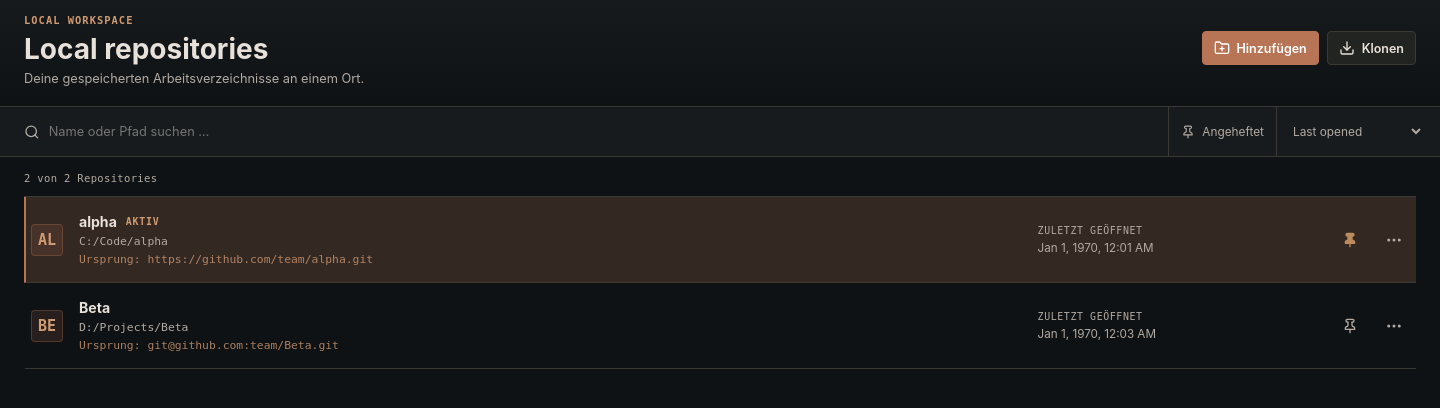
LocalRepositoriesView › opens analytics from the context menu after activation succeeds for D:/Projects/Beta
The width and height of the screenshot is (1440, 408).
Right-click the element with class "local-repositories-view__row" that starts with "Beta".
right_click(720, 326)  # box x1=24 y1=283 x2=1416 y2=369
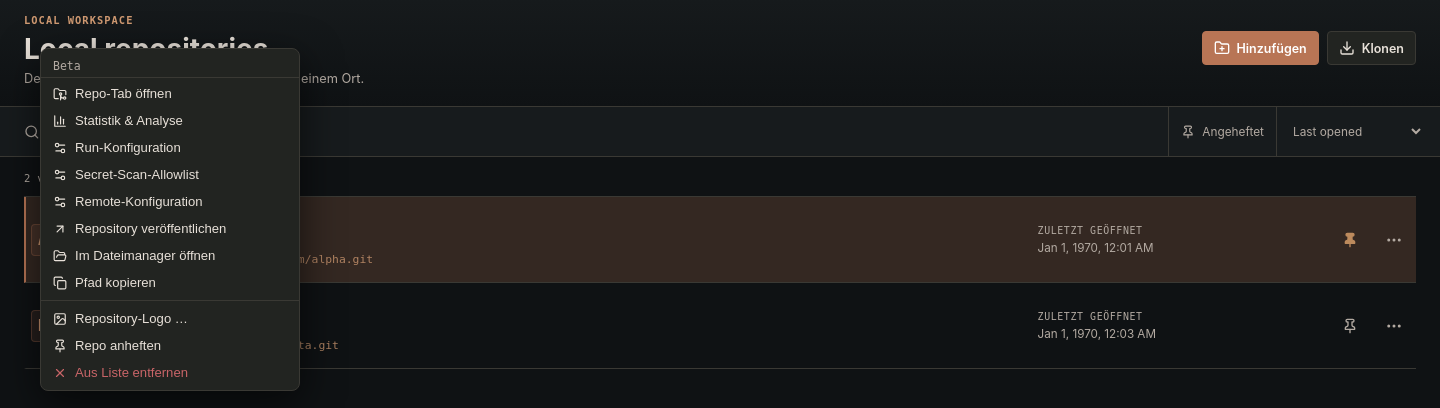
expect the menu item "Statistik & Analyse" is shown: met
Click the menu item "Statistik & Analyse".
click(170, 120)  # box x1=41 y1=107 x2=299 y2=134
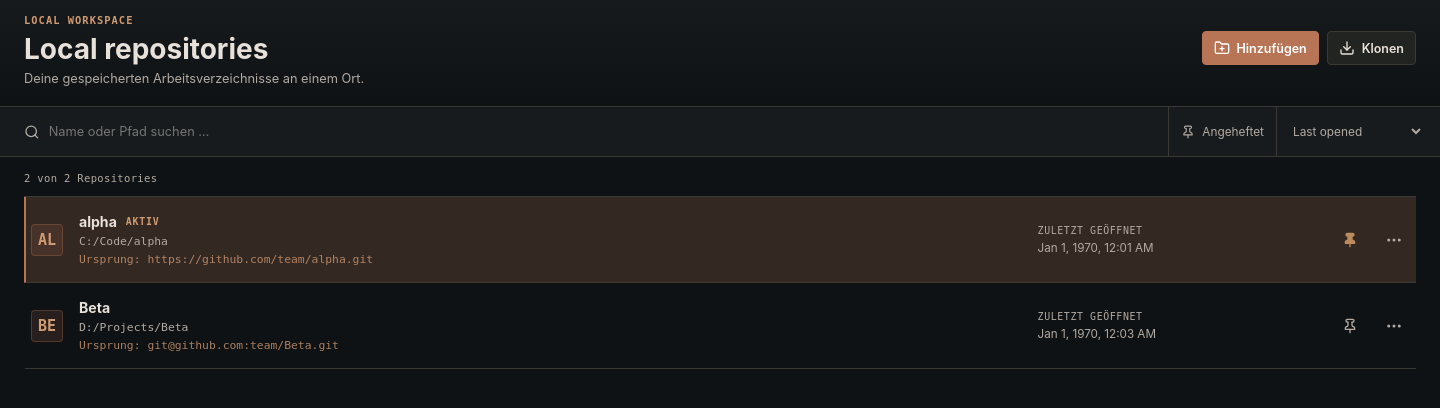
expect the menu with class "local-repository-context-menu" is gone: met
Right-click the element with class "local-repositories-view__row" that starts with "Beta".
right_click(720, 326)  # box x1=24 y1=283 x2=1416 y2=369
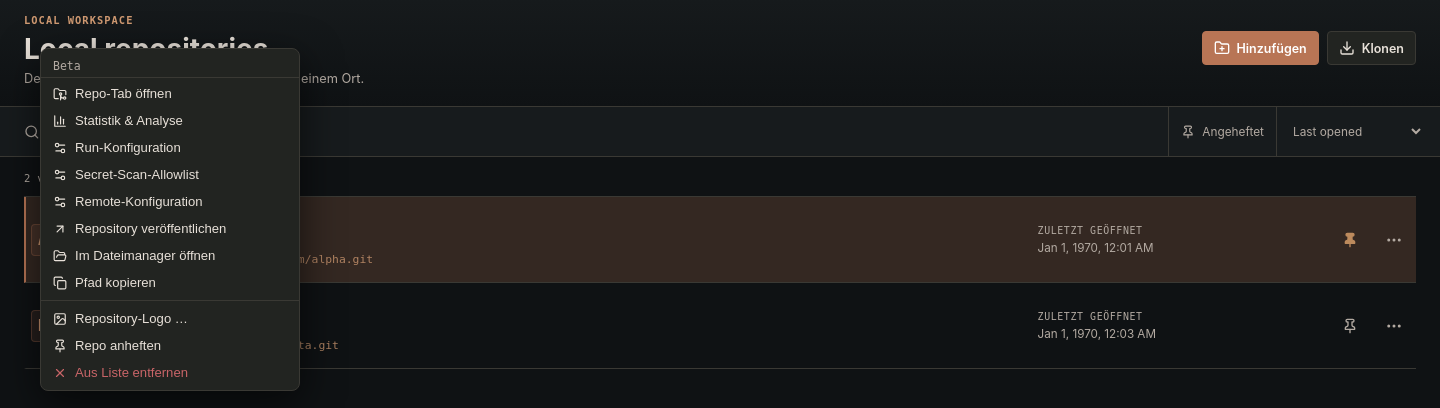
expect the menu item "Statistik & Analyse" is shown: met
Click the menu item "Statistik & Analyse".
click(170, 120)  # box x1=41 y1=107 x2=299 y2=134
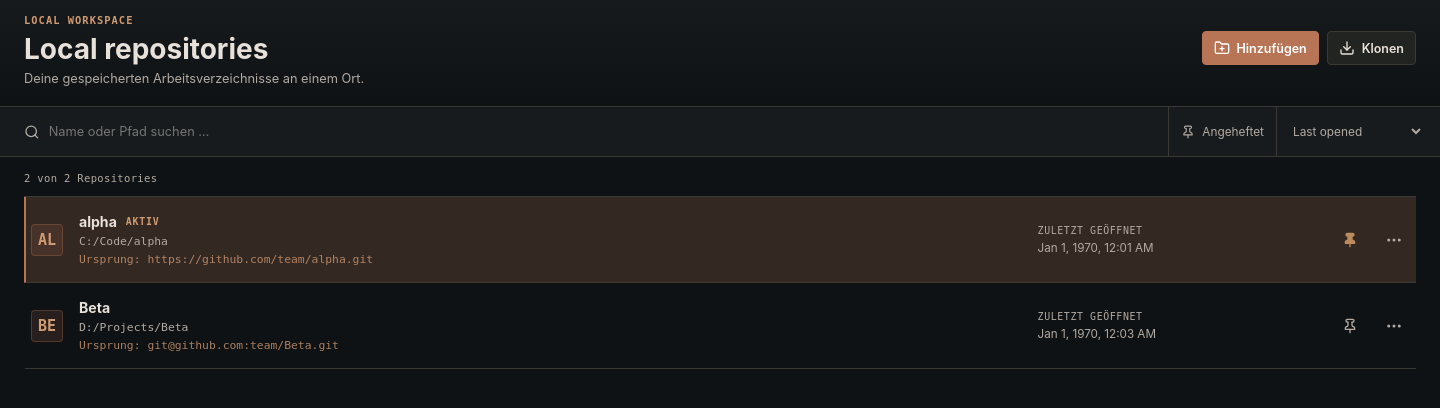
expect the menu with class "local-repository-context-menu" is gone: met
